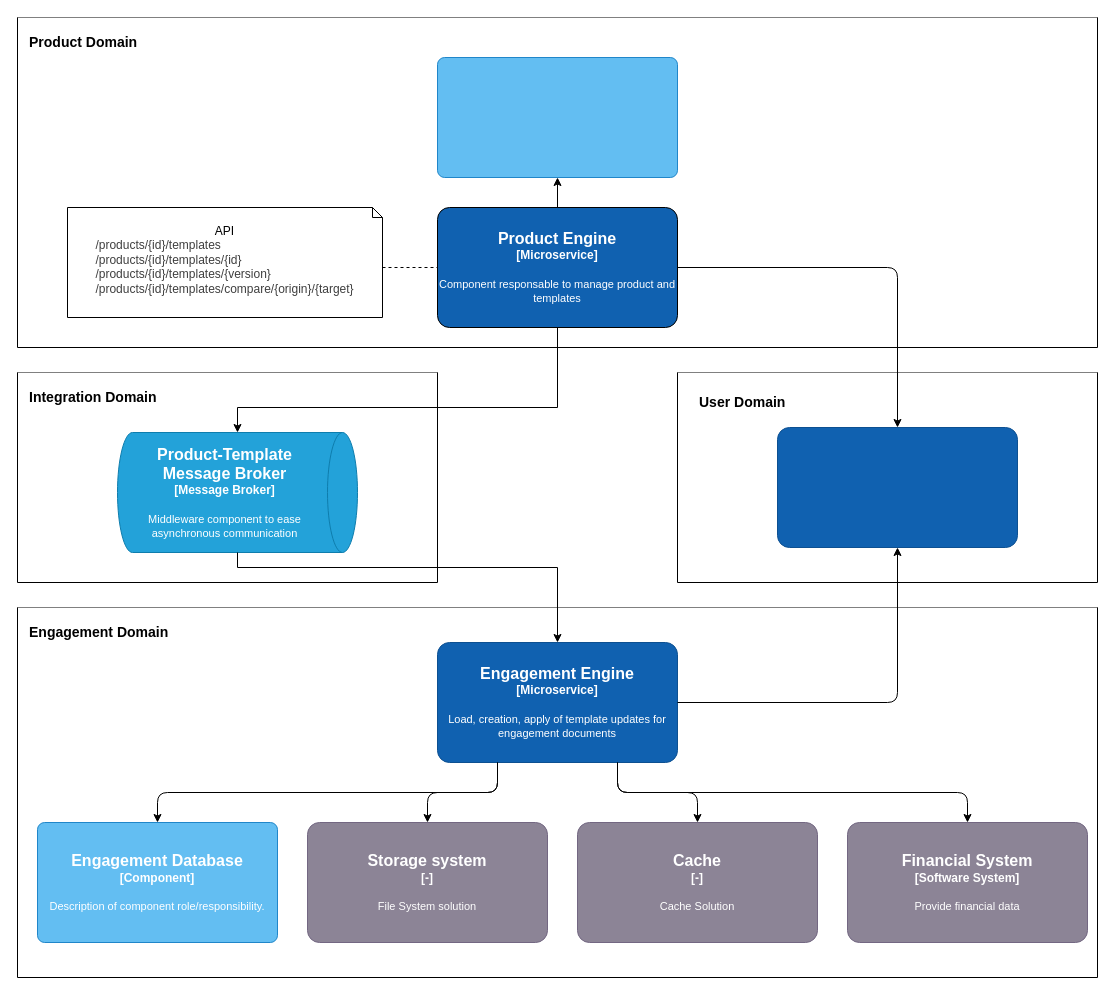
The diagram is 1115 pixels wide and 995 high, and some of its shapes have lost their labels. Here are the shapes that lost their labels. From the top down, the box of each, then its label:
(436, 56, 678, 178): Product/Template Database [Database] Storage of product and template definitions
(776, 426, 1018, 548): User Managment [Microservice] User managment system + regional compliance
